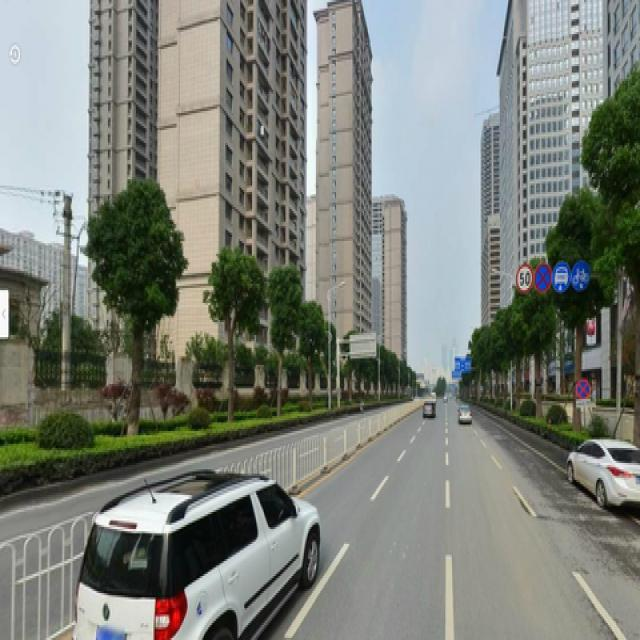cinn: (100, 173, 180, 444)
